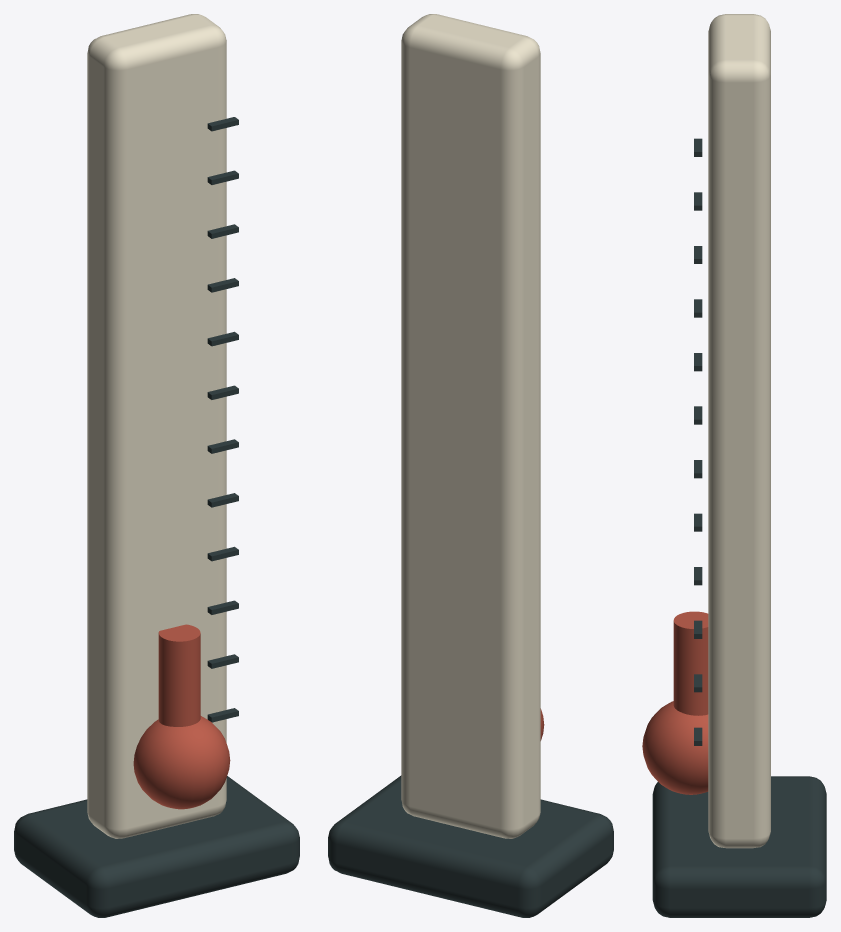
Rendered from thermometer.glb.
3 renders of one model, left to right at view 1: azimuth 30°, elevation 25°; view 2: azimuth 150°, elevation 25°; view 3: azimuth 270°, elevation 25°, orthographic.
Parts seen in each view (by area): view 1: thermometer; view 2: thermometer; view 3: thermometer.
Part boxes in pixels (x1,y1,x2,y2): thermometer: (14,14,299,917); thermometer: (328,14,613,917); thermometer: (642,14,826,917).
Bounding box in the file's own units: 0.35 × 1.32 × 0.265.
